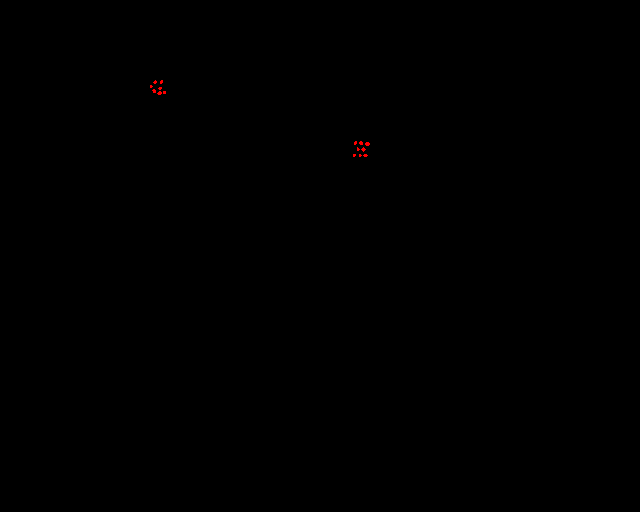Target: (361, 147, 366, 152), (157, 91, 162, 95), (365, 142, 370, 146), (153, 80, 157, 84), (152, 89, 156, 93), (359, 141, 363, 145), (363, 154, 368, 157), (160, 80, 163, 84), (158, 87, 162, 90), (354, 141, 357, 145), (357, 147, 360, 151), (150, 85, 153, 88), (163, 91, 166, 94), (353, 154, 356, 157), (359, 154, 362, 157)
